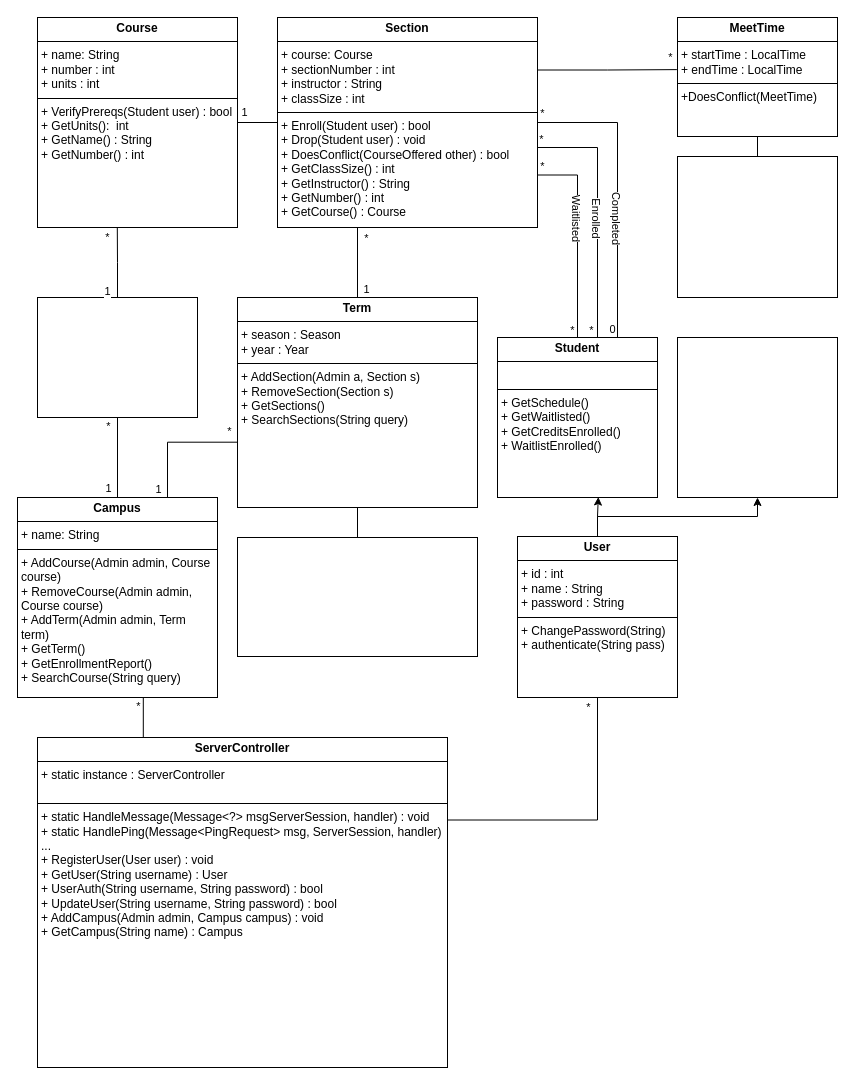
This 855x1085 diagram has some shape labels left out. The centre of each missing label's shape, as x and y in pixels:
"<< enumeration >> Day Monday Tuesday Wednesday Thursday Friday" goes at pixel 757 227.
"<< enumeration >> Season Winter Spring Summer Fall" goes at pixel 357 596.
"Admin" goes at pixel 757 417.
"Department + name: String + AddCourse(Course c)" goes at pixel 117 357.
